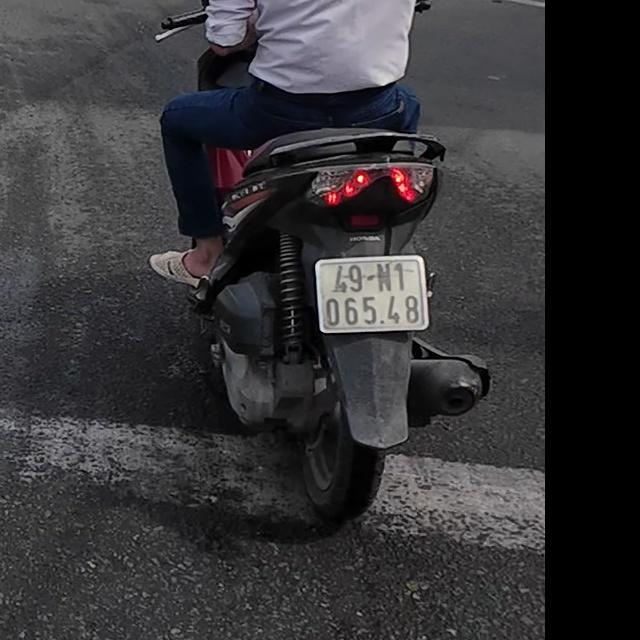license-plate: (314, 254, 427, 333)
